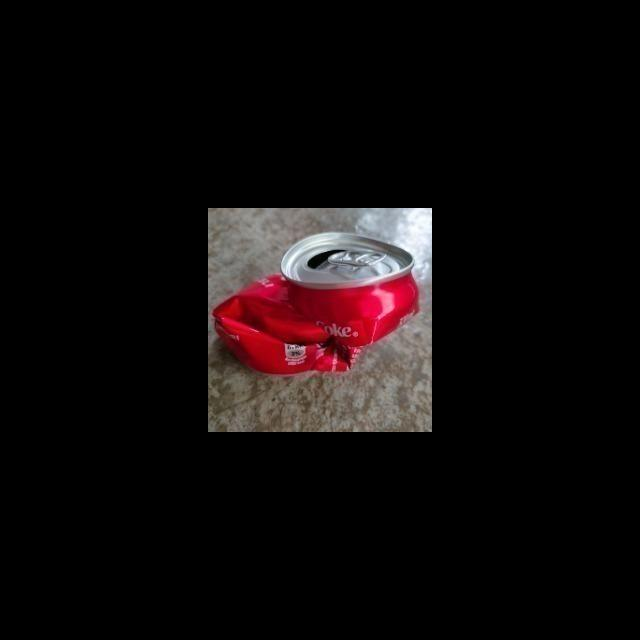metal: (212, 227, 423, 378)
